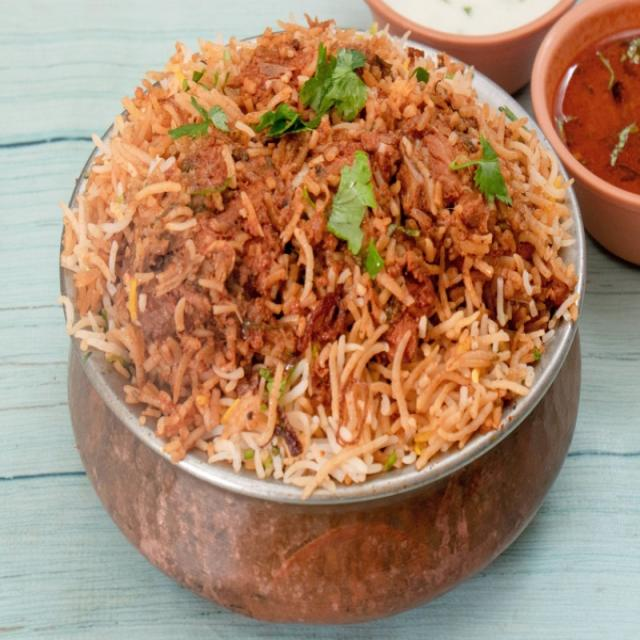Biryani: (56, 21, 571, 487)
